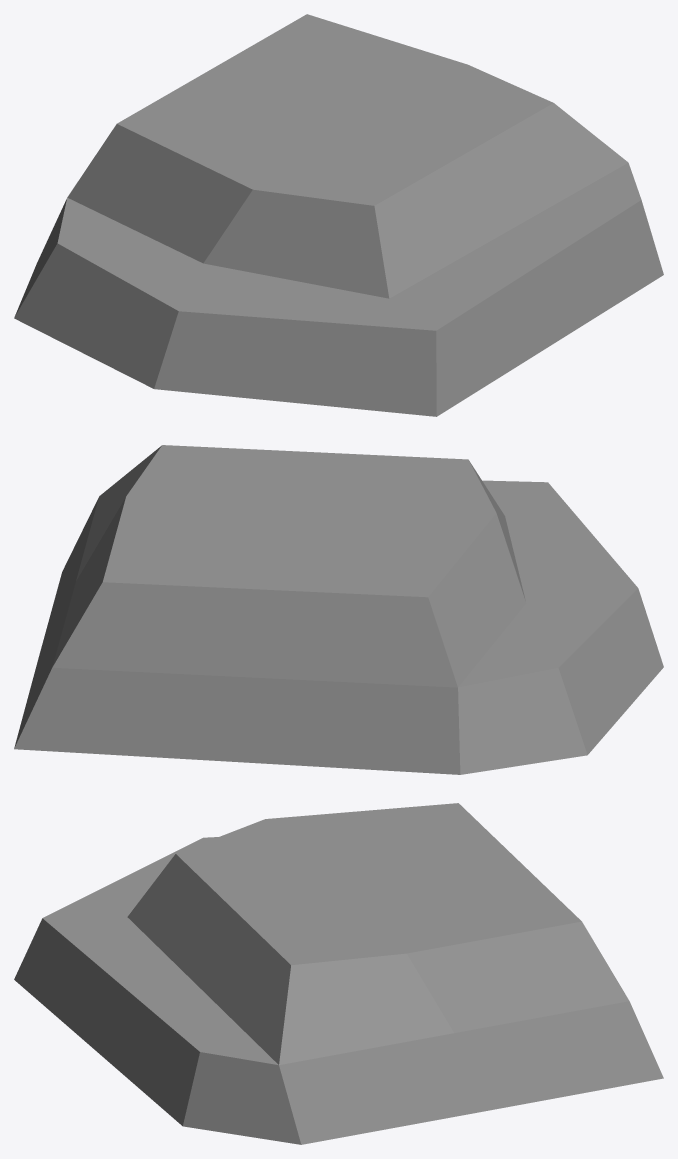
File: Rock_04.fbx
The picture shows the model from 3 angles, top to bottom: view 1: azimuth 30°, elevation 25°; view 2: azimuth 150°, elevation 25°; view 3: azimuth 270°, elevation 25°; orthographic projection. The views are drawn at different scales.
Parts seen in each view (by area): view 1: Rock_04; view 2: Rock_04; view 3: Rock_04.
Part boxes in pixels (left/top/right/bottom): Rock_04: left=14, top=14, right=663, bottom=416; Rock_04: left=14, top=445, right=663, bottom=774; Rock_04: left=14, top=803, right=663, bottom=1144.
Bounding box in the file's own units: 139 × 33.38 × 144.
